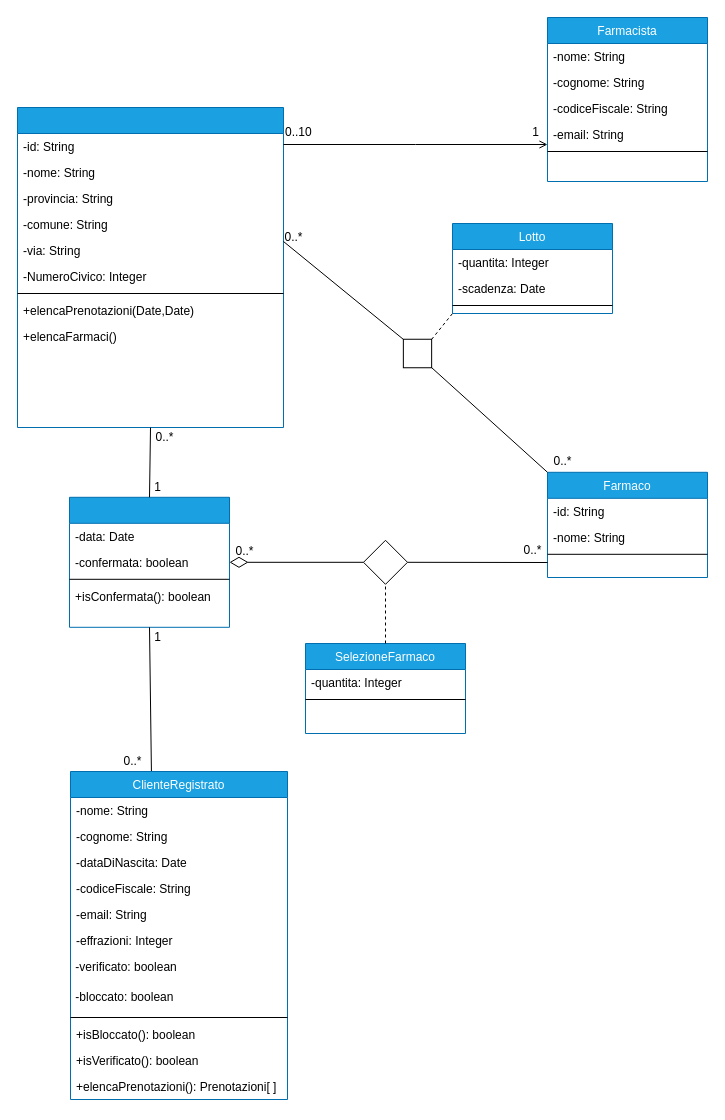
The diagram is 725 pixels wide and 1120 high, and some of its shapes have lost their labels. The box of each missing label's shape, as (x1, y1, x2, y2) in pixels:
Farmacia: (16, 106, 284, 428)
Prenotazione: (68, 496, 230, 627)
